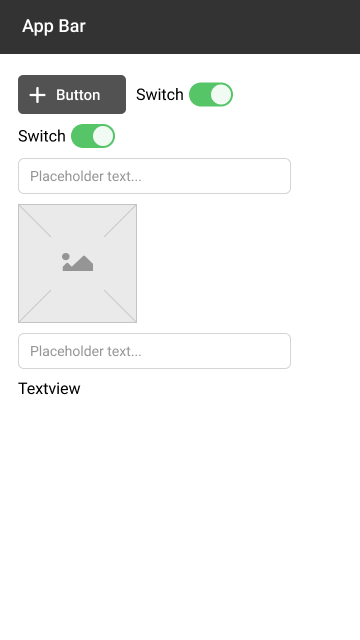buttonImage: (16, 73, 127, 116)
editText: (16, 156, 293, 197), (17, 331, 295, 371)
imageView: (16, 200, 139, 325)
switch: (15, 122, 118, 151), (134, 82, 235, 108)
textView: (16, 378, 85, 398)
toolbar: (1, 1, 360, 55)
